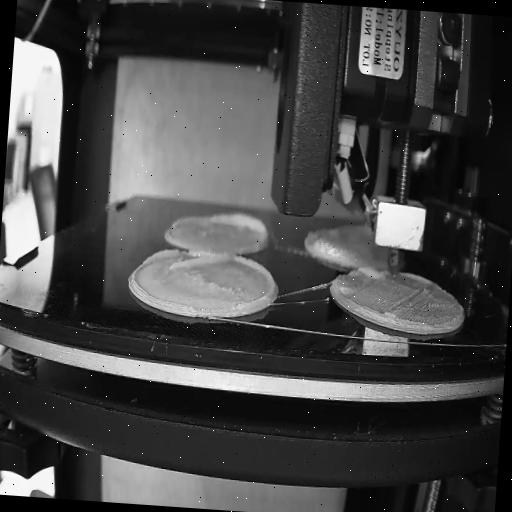over_extrusion: (228, 254, 278, 310), (208, 208, 270, 250), (142, 246, 228, 276), (356, 265, 384, 281)
